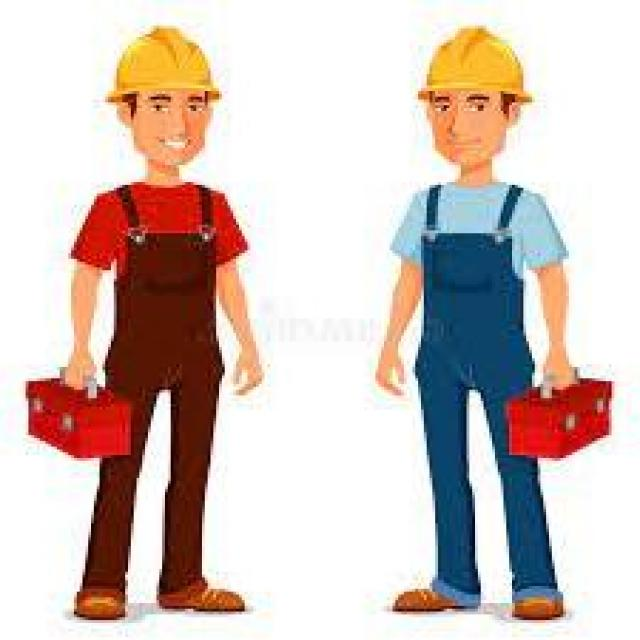Safety-Helmet: (97, 17, 236, 111), (412, 20, 535, 105)
